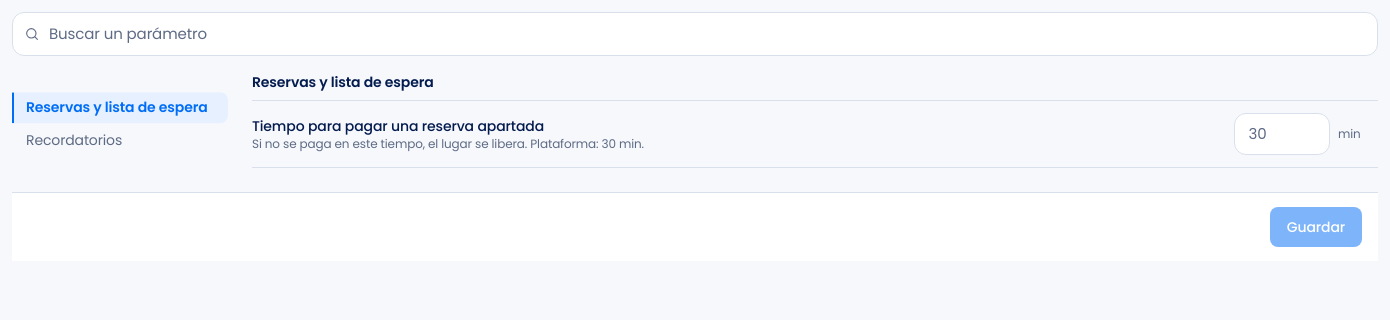
Scenario: una categoría a la vez (sin scroll largo) › el buscador filtra por nombre en todas las categorías
The width and height of the screenshot is (1390, 320).
Type "segundo" into the search field with placeholder "Buscar un parámetro" at (695, 34), box [12,12,1378,56]
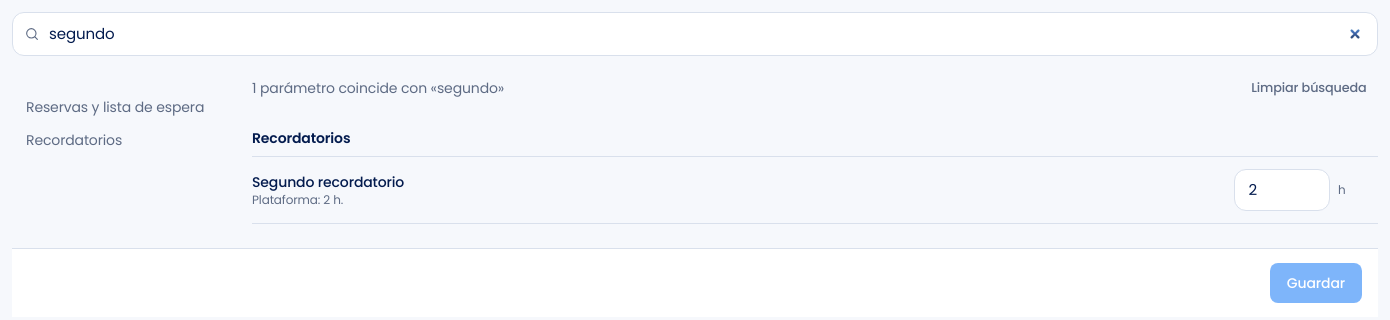
Expected: the number field with class "segundo_horas" is shown, [1234,169,1330,211]
Expected: the message "1 parámetro coincide con «segundo»" is shown, [252,78,504,98]
Replace the text in the search field named "Buscar un parámetro" with "zzz" at (695, 34), box [12,12,1378,56]
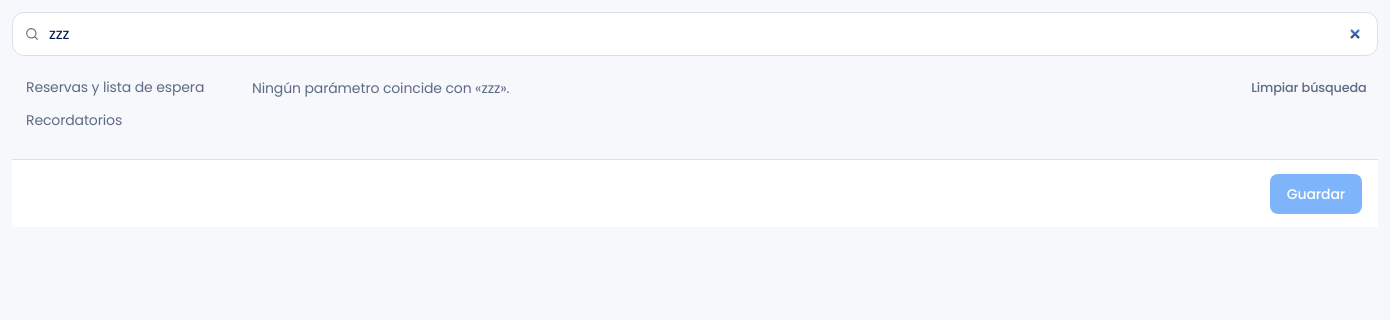
Expected: the message "Ningún parámetro coincide con «zzz»." is shown, [252,78,509,98]
# Elegir una categoría deja la búsqueda.
Click the button "Reservas y lista de espera" at (120, 87), box [12,72,228,103]
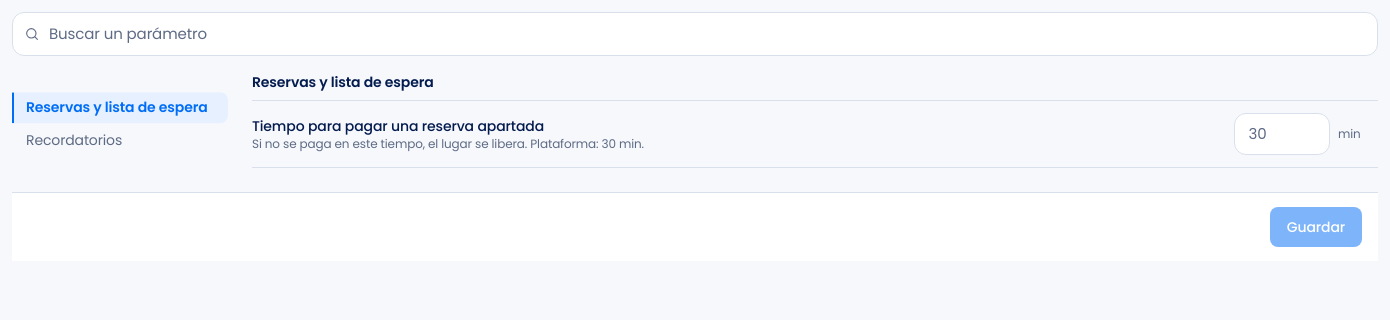
Expected: the search field with placeholder "Buscar un parámetro" is empty, [12,12,1378,56]
Expected: the number field with class "minutos_para_pagar" is shown, [1234,113,1330,155]
